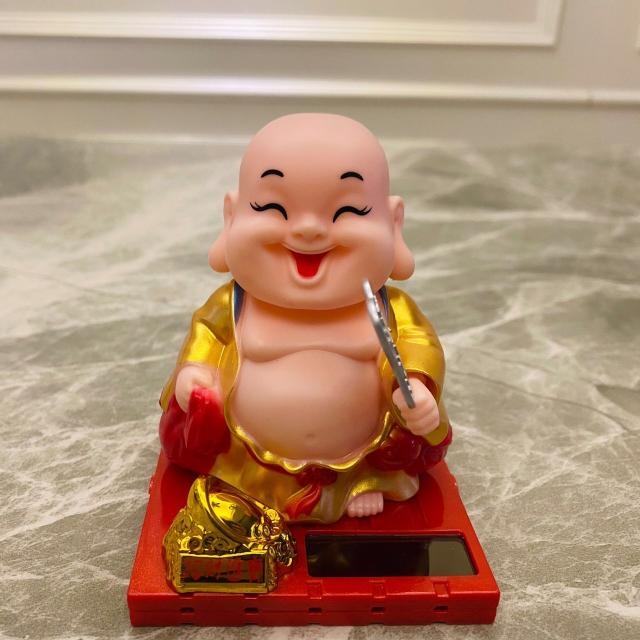Smiling Buddha: (169, 105, 448, 485)
